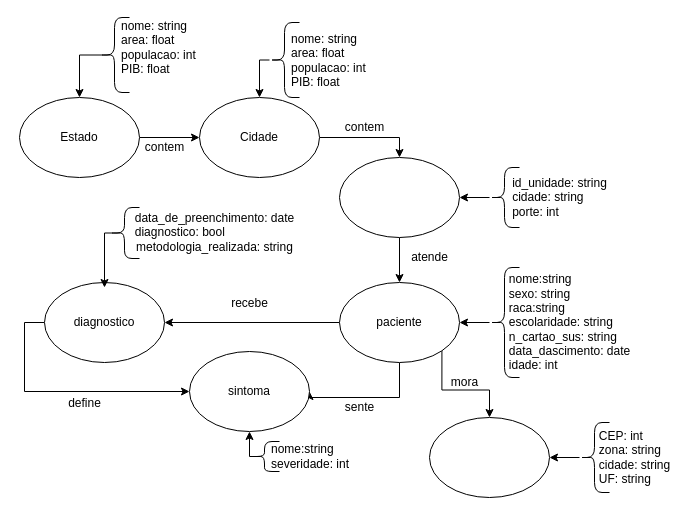
This 697x515 diagram has some shape labels left out. The centre of each missing label's shape, as x and y in pixels:
"residencia" belongs at pixel 489 457.
"unidade de saude" belongs at pixel 399 197.
